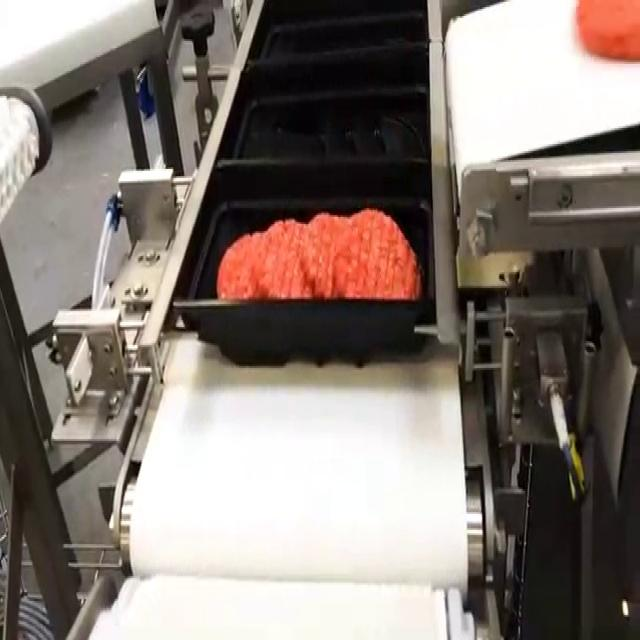4-hamburguer: (216, 208, 420, 299)
